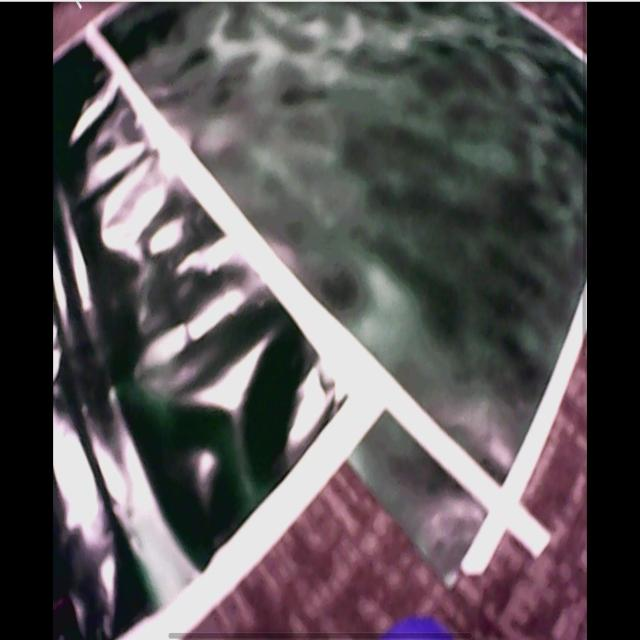ball: (381, 612, 457, 640)
